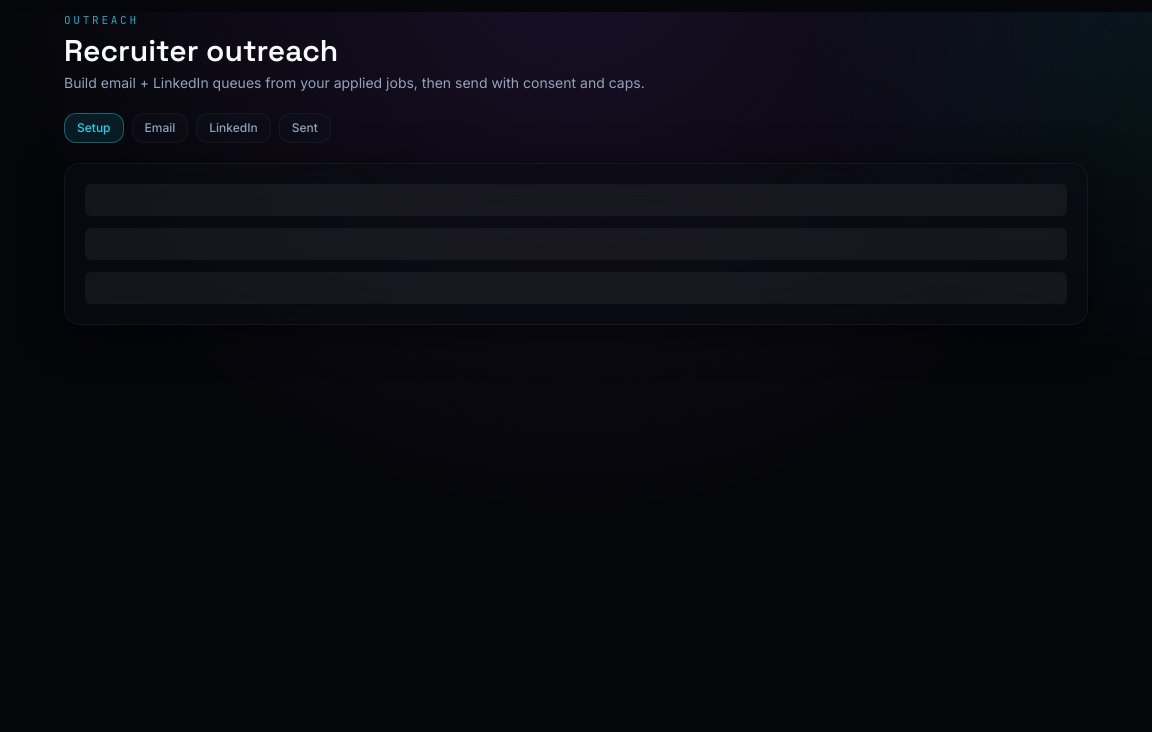
Scenario: OutreachPage › shows the opt-in gate banner when consent is off and the Email tab is open
Click the button "Email": (160, 128) x1=132 y1=112 x2=188 y2=142
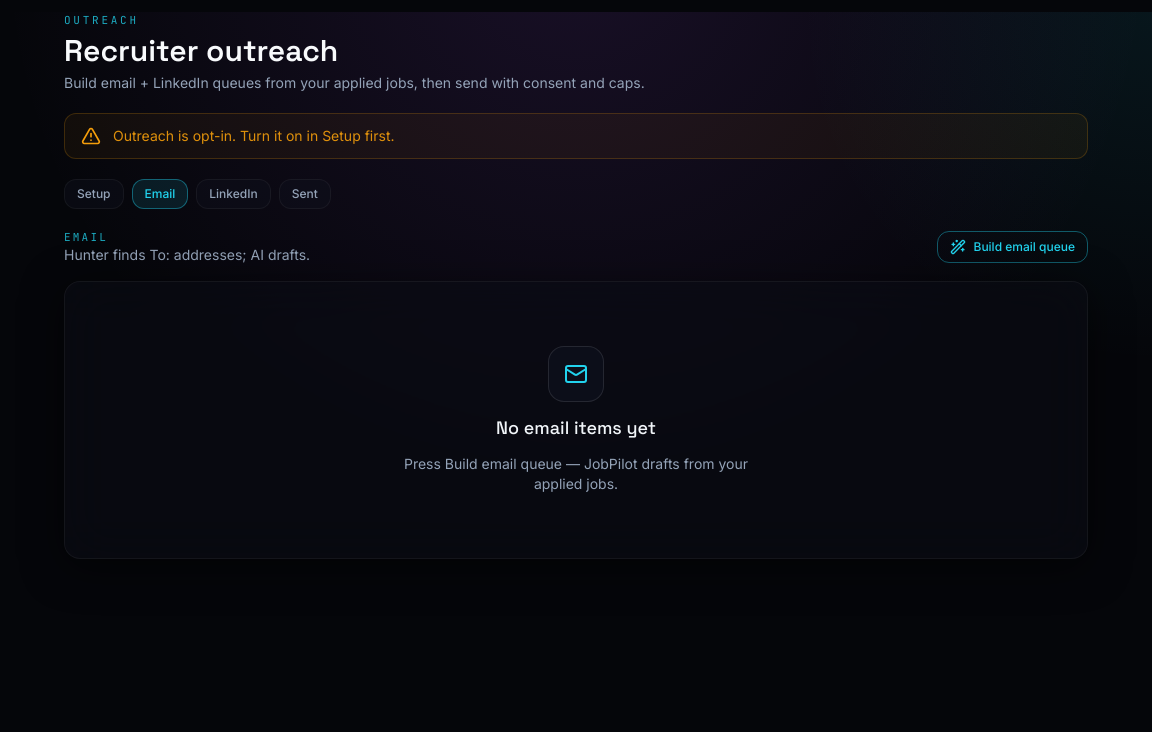
expect the text "Outreach is opt-in. Turn it on in Setup first." is shown: met, box x1=113 y1=126 x2=394 y2=146
expect the button "Build email queue" is shown: met, box x1=936 y1=231 x2=1088 y2=263
